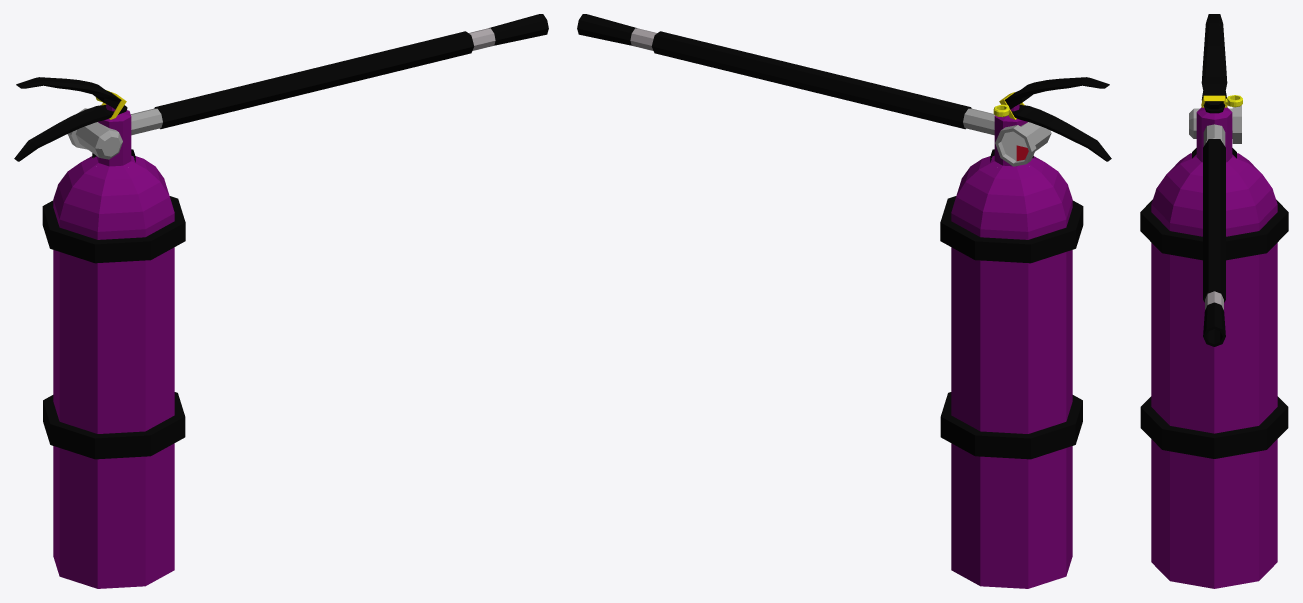
File: active_extinguisher_shortNose_Red.fbx
3 views of the same model, side by side, from view 1: azimuth 30°, elevation 25°; view 2: azimuth 150°, elevation 25°; view 3: azimuth 270°, elevation 25° (orthographic).
Parts seen in each view (by area): view 1: Body, Hose, NoseShort, handletop; view 2: Body, Hose, NoseShort, handletop; view 3: Body, Hose, handletop, NoseShort.
Boxes of the visible parts, box(x1,y1,x2,y2) form: Body: box(14, 104, 185, 588); Hose: box(154, 31, 474, 129); NoseShort: box(468, 14, 548, 50); handletop: box(16, 77, 123, 110); Body: box(940, 104, 1111, 588); Hose: box(651, 31, 971, 129); NoseShort: box(577, 14, 657, 50); handletop: box(1004, 77, 1109, 109); Body: box(1140, 91, 1288, 588); Hose: box(1203, 139, 1225, 302); handletop: box(1201, 14, 1227, 109); NoseShort: box(1203, 291, 1225, 346).
Bounding box in the file's own units: 479 × 436 × 116.
